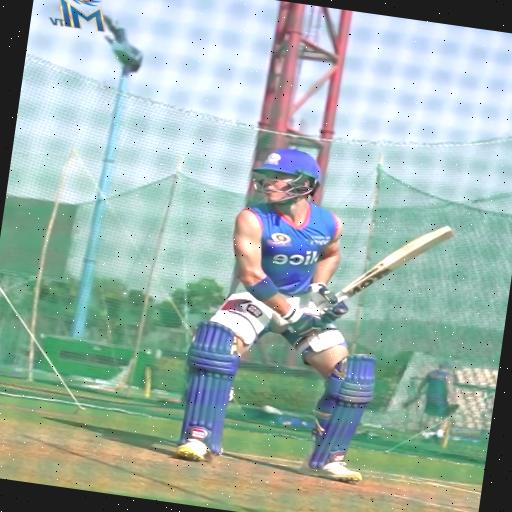Cricket bat: (337, 226, 454, 301)
